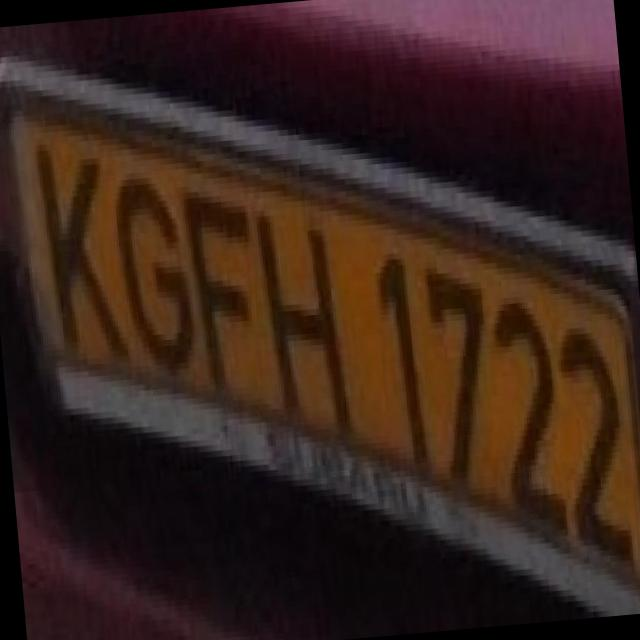1: (349, 226, 440, 466)
2: (538, 306, 640, 560), (472, 275, 572, 529)
7: (405, 238, 508, 486)
F: (165, 162, 272, 380)
G: (98, 156, 203, 374)
H: (240, 179, 358, 429)
K: (15, 114, 128, 363)
